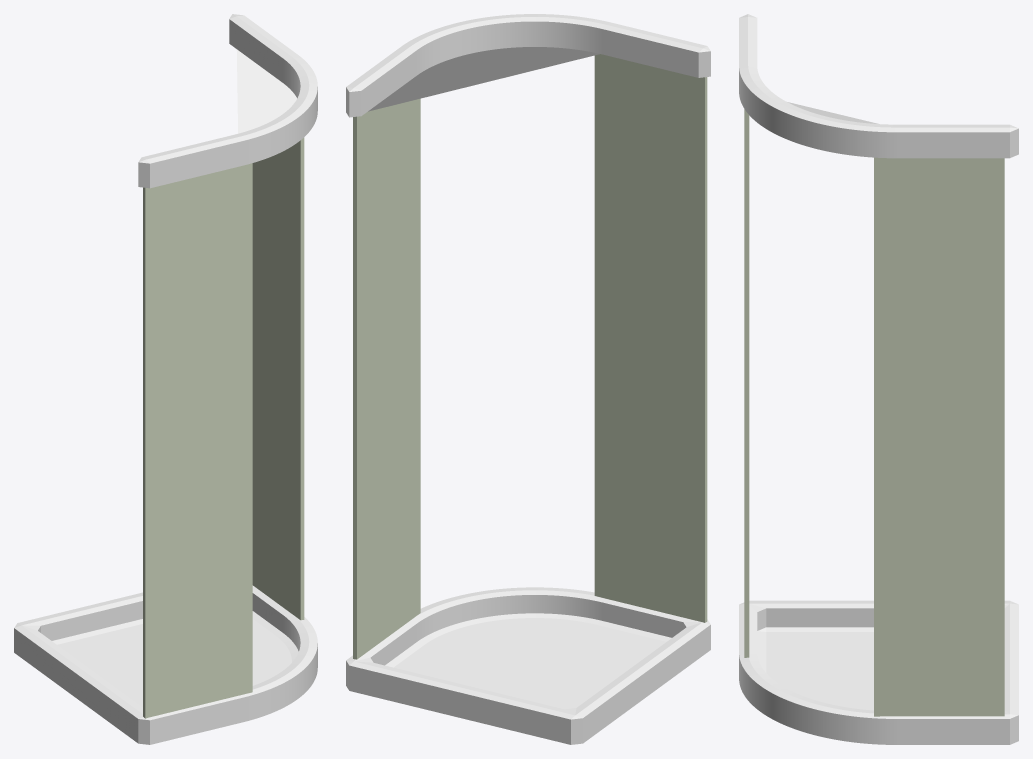
File: prysznic.fbx
The picture shows the model from 3 angles, left to right: view 1: azimuth 30°, elevation 25°; view 2: azimuth 150°, elevation 25°; view 3: azimuth 270°, elevation 25°; orthographic projection. The views are drawn at different scales.
Visible parts, largest first — view 1: Cube.002, Cube.003, Cube, Cube.001; view 2: Cube.002, Cube, Cube.003, Cube.001; view 3: Cube.003, Cube, Cube.001, Cube.002.
Boxes of the visible parts, x1,y1,x2,y2 form: Cube.002: (143,163,252,718); Cube.003: (252,137,304,620); Cube: (14,585,317,744); Cube.001: (138,14,317,188); Cube.002: (594,54,707,622); Cube: (346,587,710,744); Cube.003: (353,98,420,659); Cube.001: (346,14,710,117); Cube.003: (874,157,1004,716); Cube: (739,600,1018,744); Cube.001: (739,14,1018,158); Cube.002: (744,109,749,657).
Bounding box in the file's own units: 200 × 484 × 200.
